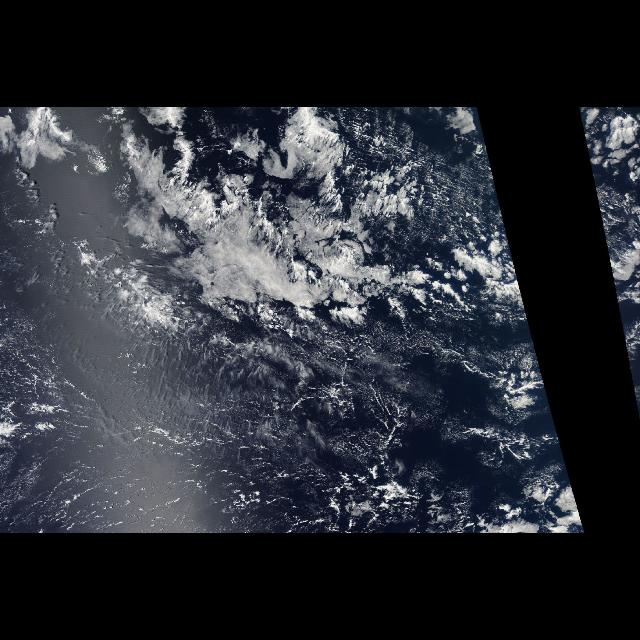Sugar: (2, 298, 208, 532)
